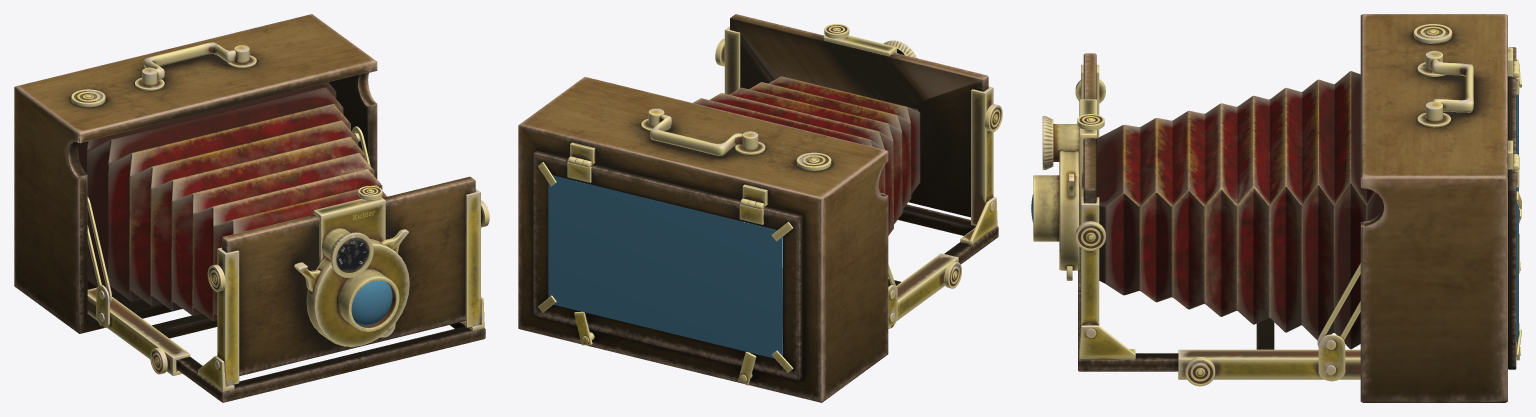
3 views of the same model, side by side, from view 1: azimuth 30°, elevation 25°; view 2: azimuth 150°, elevation 25°; view 3: azimuth 270°, elevation 25° (orthographic). The views are drawn at different scales.
Parts seen in each view (by area): view 1: camera, Bellows, Brass, Lens, lens; view 2: camera, Glass, Brass, Bellows, Lens; view 3: camera, Bellows, Brass, Lens, Glass.
Part boxes in pixels (box(x1,y1,x2,y2)): camera: box(14, 14, 485, 402); Bellows: box(78, 82, 386, 320); Brass: box(71, 42, 489, 391); Lens: box(294, 197, 409, 346); lens: box(351, 280, 392, 325); camera: box(518, 14, 998, 402); Glass: box(548, 175, 782, 358); Brass: box(538, 24, 1002, 385); Bellows: box(693, 76, 920, 235); Lens: box(823, 35, 916, 57); camera: box(1078, 14, 1516, 402); Bellows: box(1096, 71, 1383, 349); Brass: box(1075, 24, 1521, 386); Lens: box(1033, 99, 1096, 280); Glass: box(1516, 94, 1518, 341).
Size of the model in its own units: 0.3959 by 0.2716 by 0.4991.
Materials: 6 (6 with a texture image).
